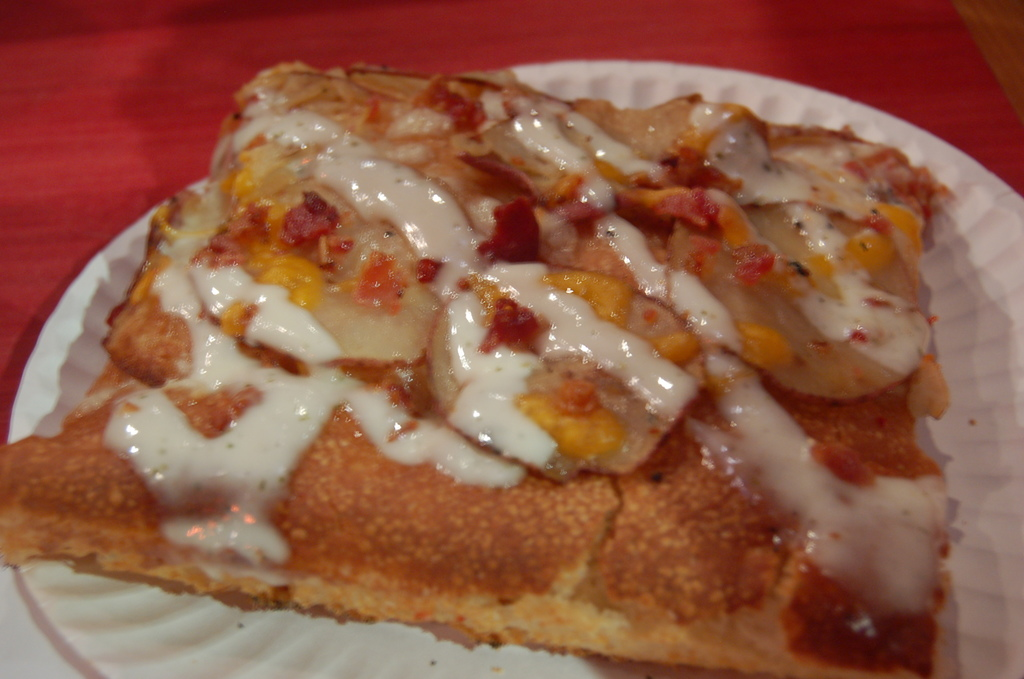Pizza: (12, 48, 951, 674)
